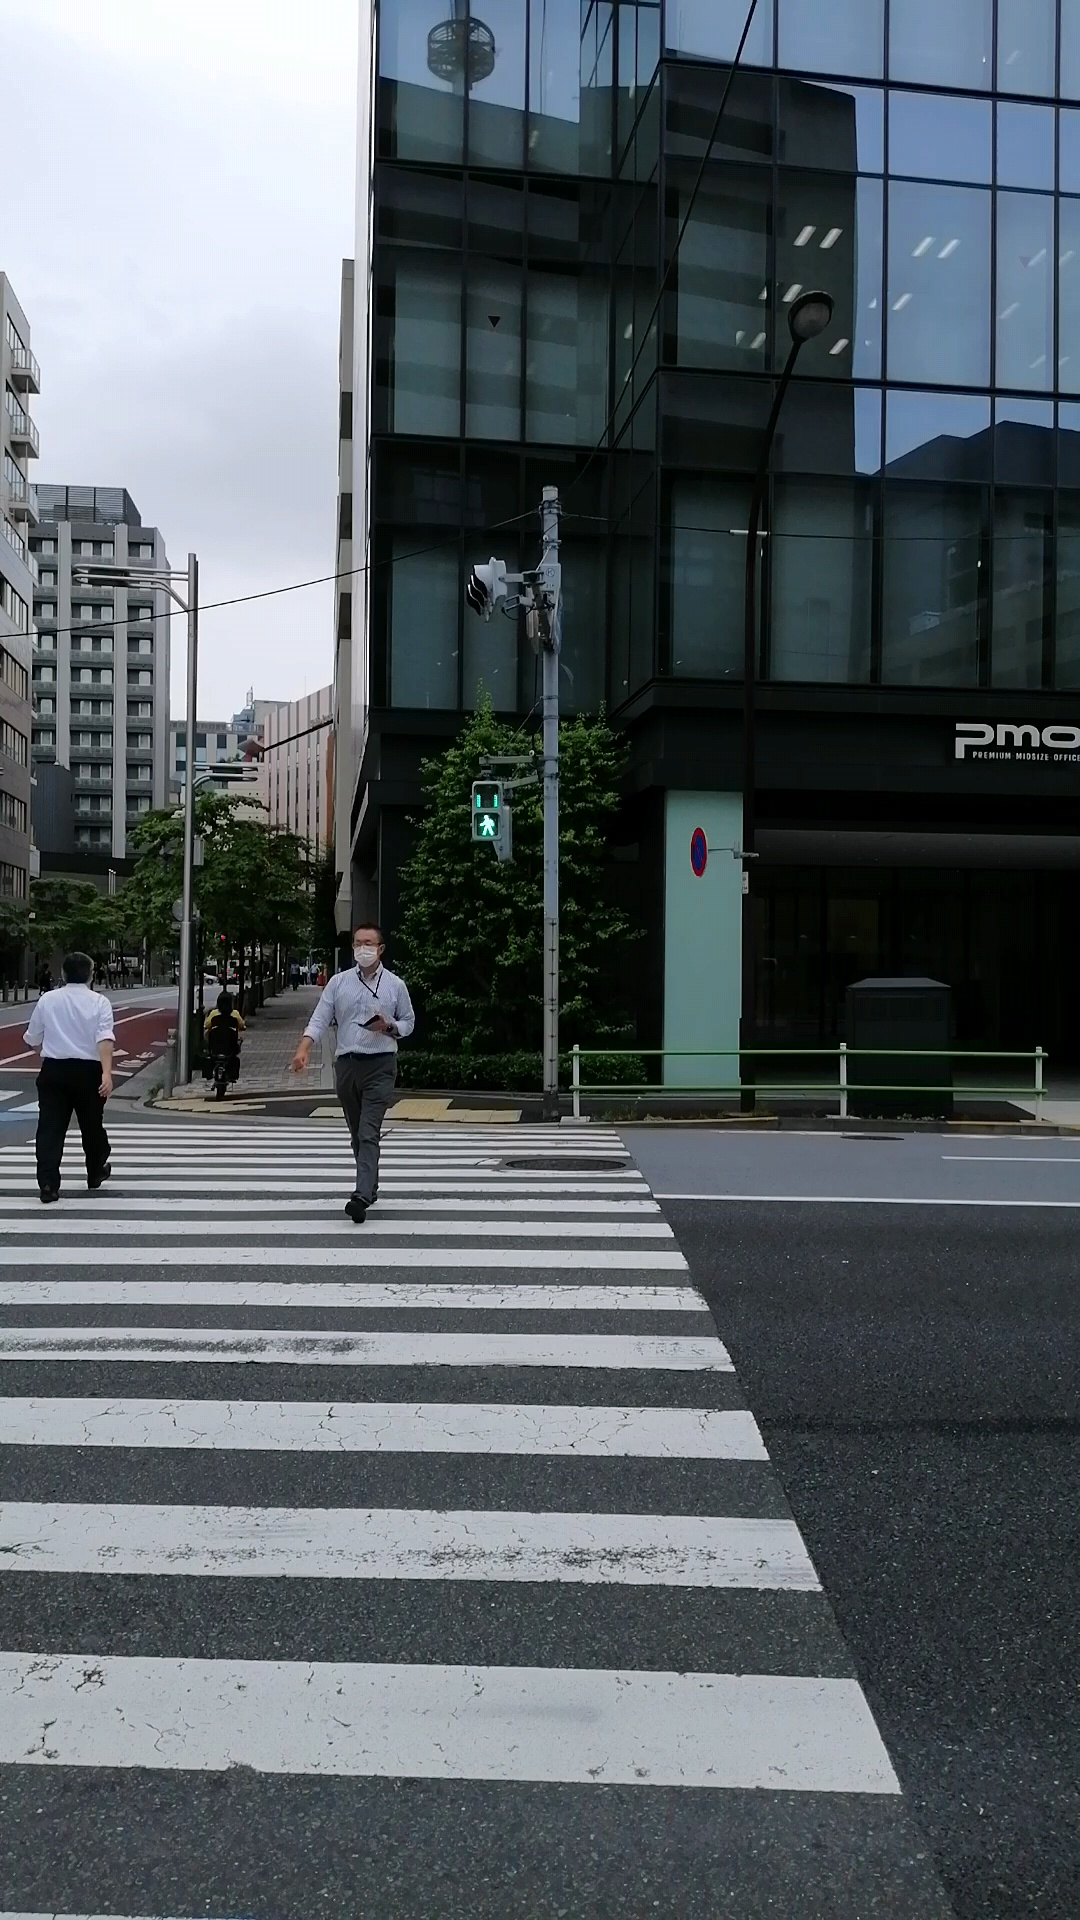green: (469, 779, 504, 847)
